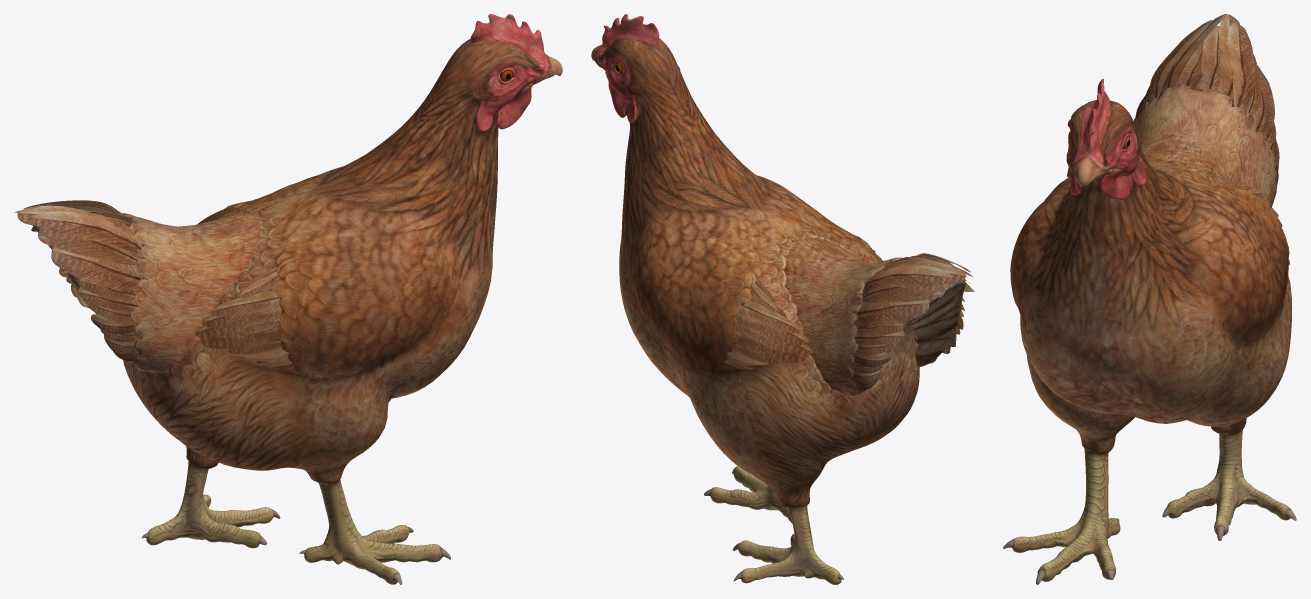
Rendered from hen-photoreal.glb.
3 views of the same model, side by side, from view 1: azimuth 30°, elevation 25°; view 2: azimuth 150°, elevation 25°; view 3: azimuth 270°, elevation 25° (orthographic). The views are drawn at different scales.
Parts seen in each view (by area): view 1: node_id53_0; view 2: node_id53_0; view 3: node_id53_0.
Boxes of the visible parts, <box> form: node_id53_0: <box>15,14,562,584</box>; node_id53_0: <box>591,14,974,584</box>; node_id53_0: <box>1003,14,1296,584</box>.
Size of the model in its own units: 1.05 by 1.07 by 0.5191.
1 material, 1 textured.
